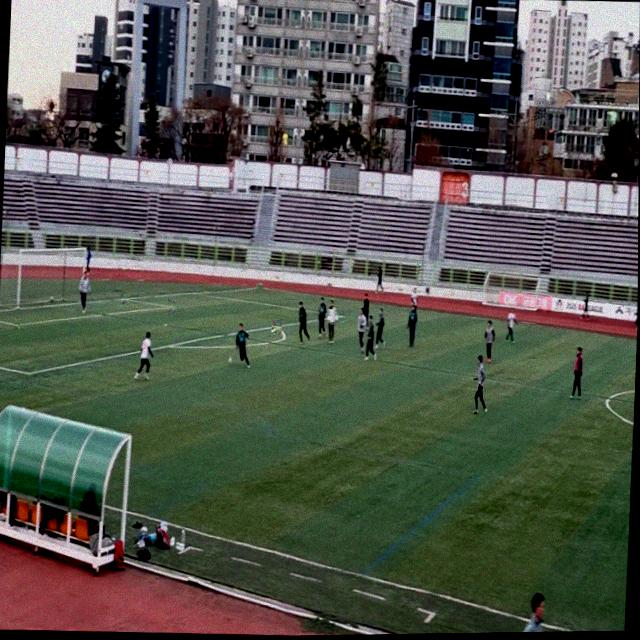bigarea_bottom_inner: (21, 360, 37, 389)
bigarea_top_inner: (166, 299, 175, 317), (339, 307, 346, 323)
bigarea_top_outter: (120, 292, 129, 306), (192, 288, 199, 299)
bottom_arc_area_intersection: (164, 332, 177, 359)
corner: (256, 284, 263, 292)
smallarea_bottom_inner: (13, 317, 22, 331)
top_arc_area_intersection: (270, 318, 282, 335)
